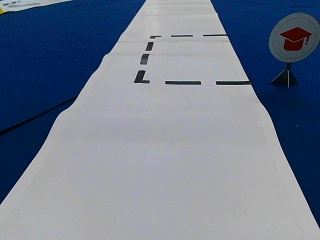school: (269, 13, 318, 61)
